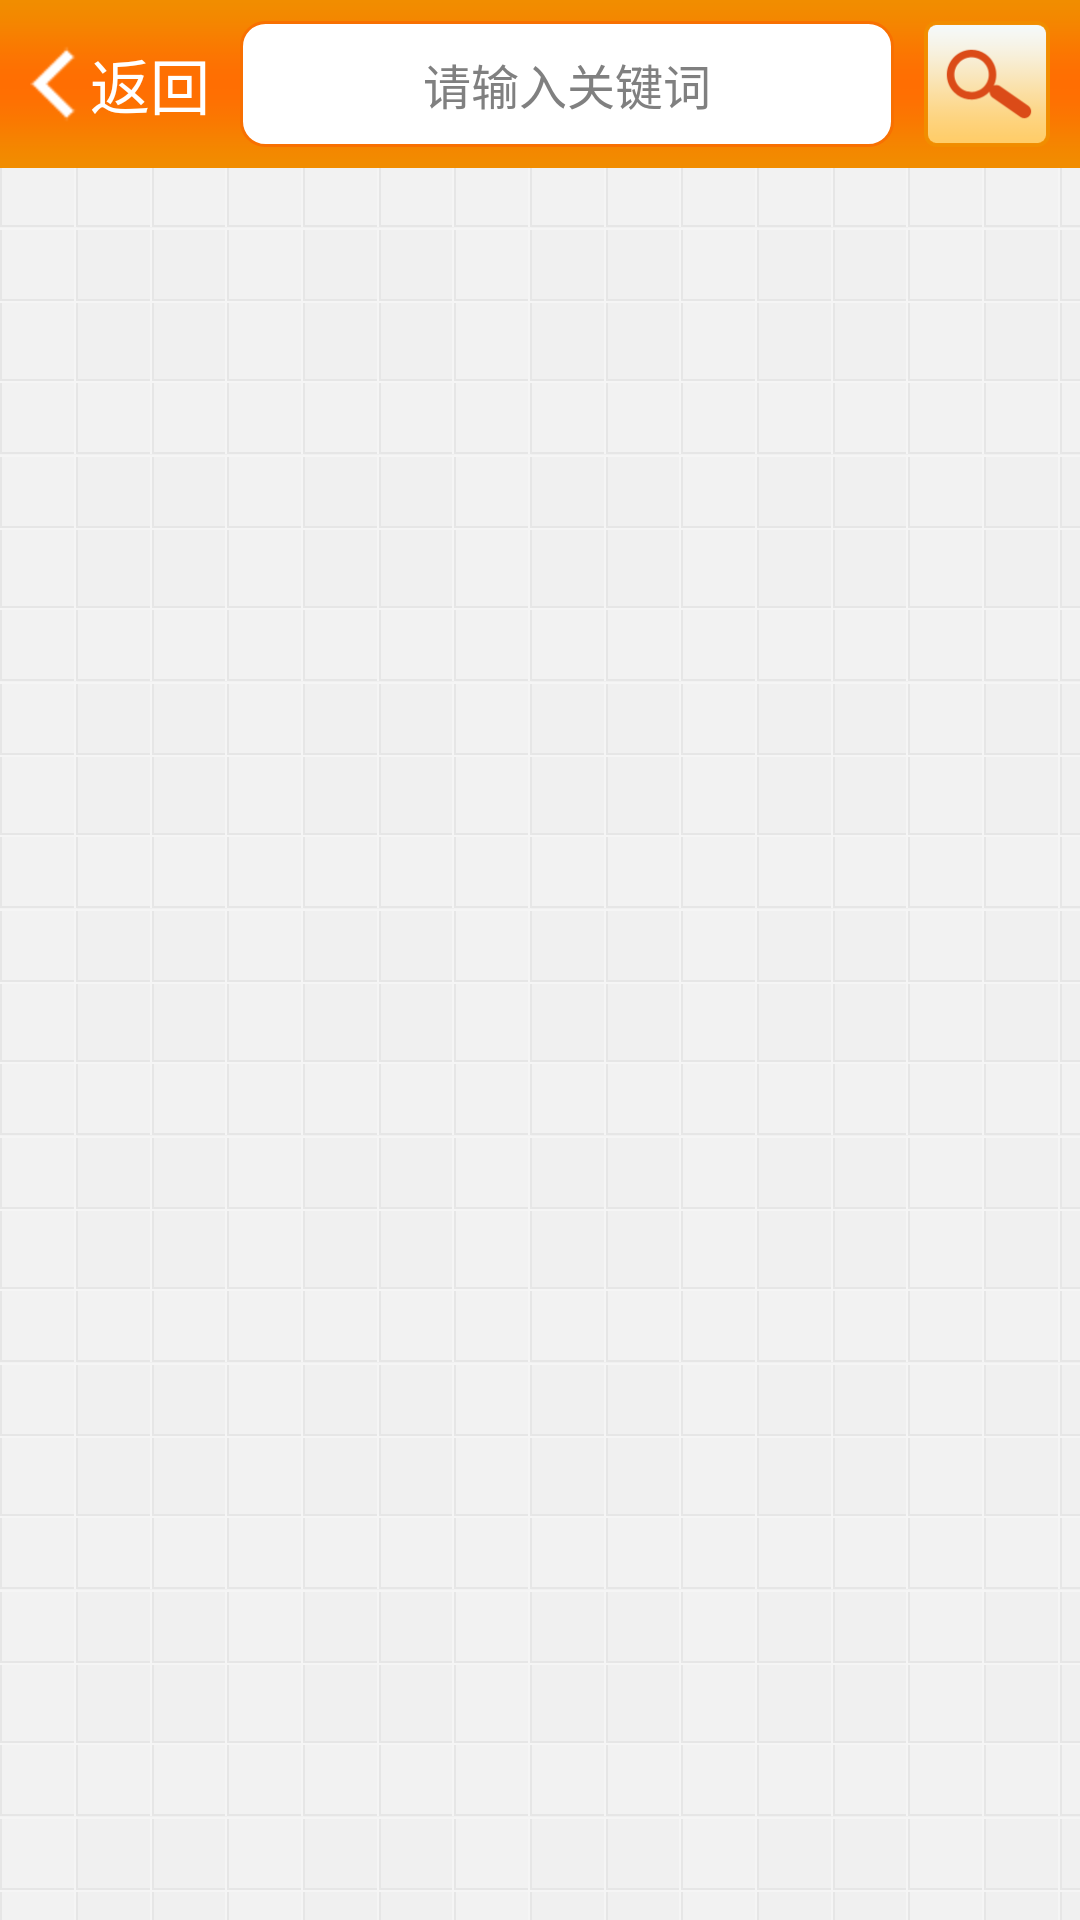

Icons on this 1080x1920 Android screen, each with the point to tap as (x=x, y=y):
search: (x=987, y=84)
